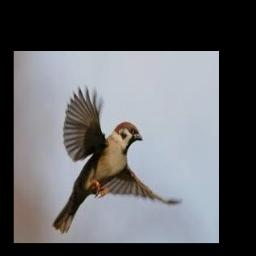Sparrow: (52, 85, 183, 234)
